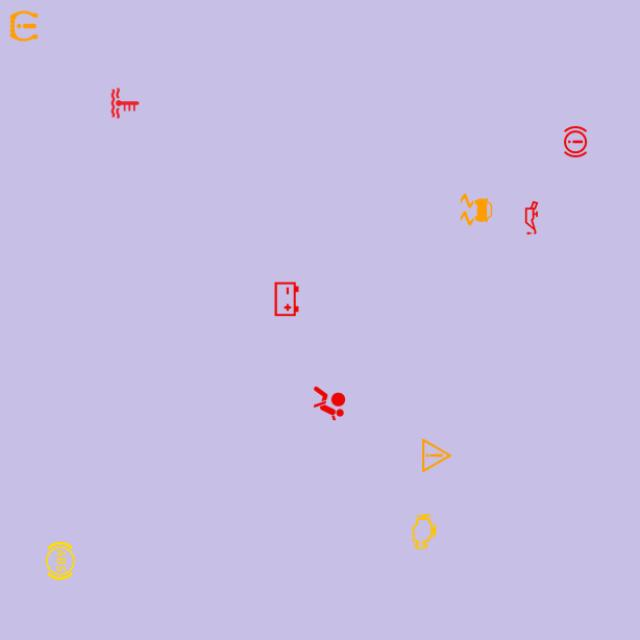Anti Lock Braking System: (40, 540, 81, 582)
Braking System Issue: (555, 121, 596, 163)
Charging System Issue: (266, 278, 307, 320)
Check Engine: (403, 511, 445, 552)
Electronic Stability Problem -ESP-: (456, 189, 497, 230)
Engine Overheating Warning Light: (104, 82, 146, 124)
Low Engine Oil Warning Light: (511, 197, 552, 239)
Low Tire Pressure Warning Light: (3, 5, 45, 47)
Master warning light: (416, 435, 457, 476)
SRS-Airbag: (309, 383, 350, 424)
